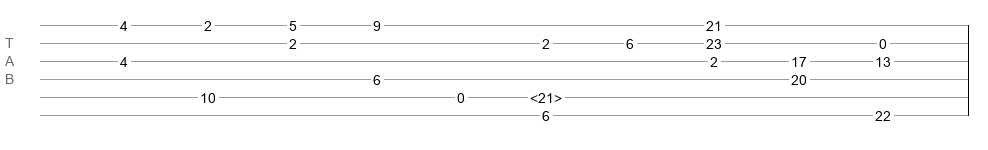0: (457, 90, 465, 100), (879, 36, 887, 46)
10: (200, 90, 216, 100)
13: (875, 54, 891, 64)
17: (791, 54, 807, 64)
2: (204, 18, 212, 28), (289, 36, 297, 46), (542, 36, 550, 46), (710, 54, 718, 64)
20: (791, 72, 807, 82)
21: (706, 18, 722, 28)
22: (875, 108, 891, 118)
23: (706, 36, 722, 46)
4: (120, 54, 128, 64), (120, 18, 128, 28)
5: (289, 18, 297, 28)
6: (373, 72, 381, 82), (542, 108, 550, 118), (626, 36, 634, 46)
9: (373, 18, 381, 28)
harmonic: (530, 90, 562, 100)
